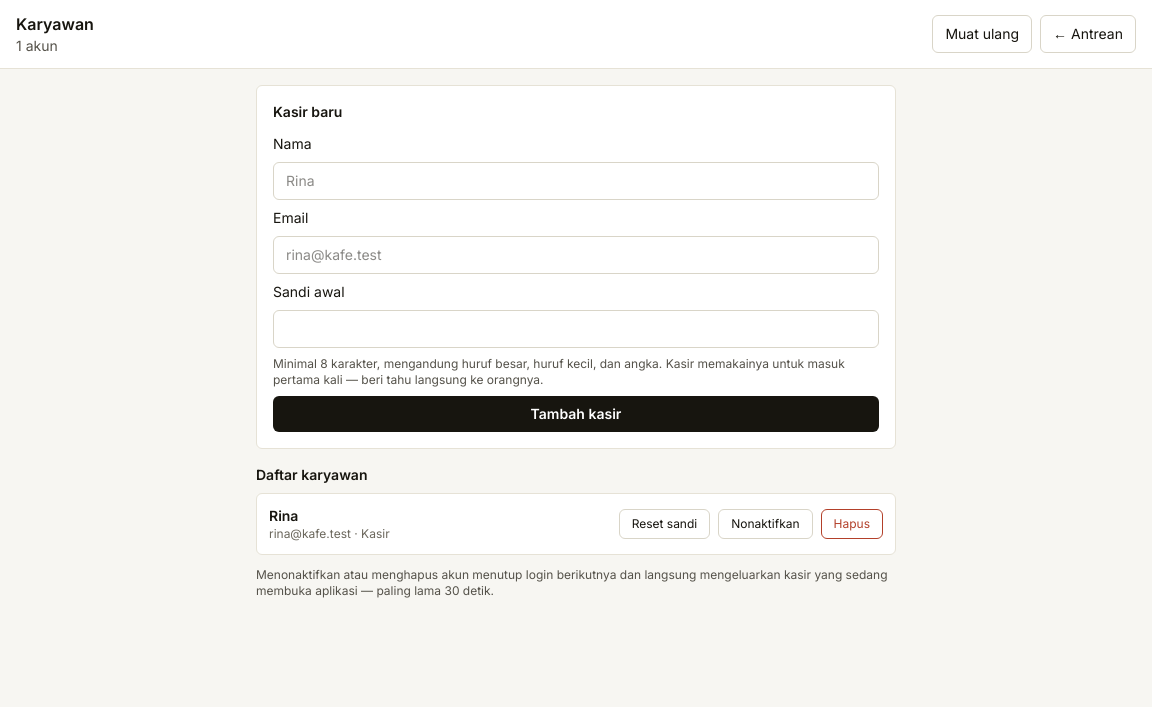
Test: reset sandi kasir › sandi kosong ditolak tanpa menghubungi server
The image size is (1152, 707).
Click the button with aria-label "Reset sandi Rina" at (664, 524), box [619,509,710,539]
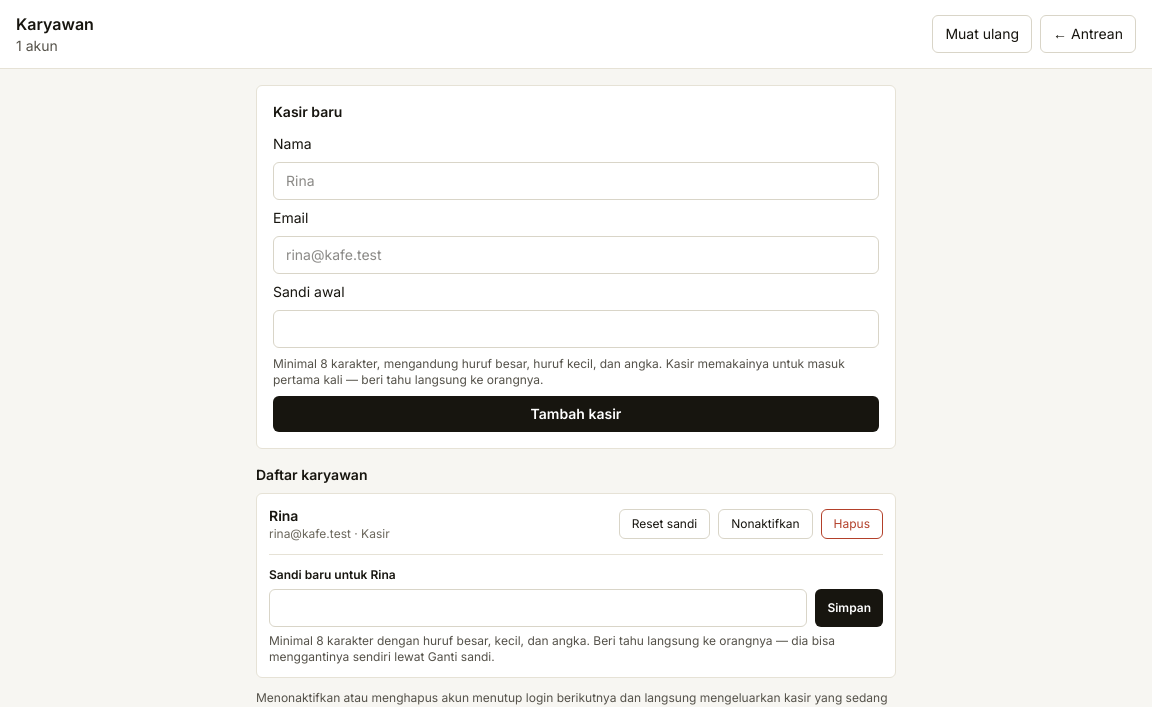
Click the button "Simpan" at (849, 608), box [815,589,883,627]
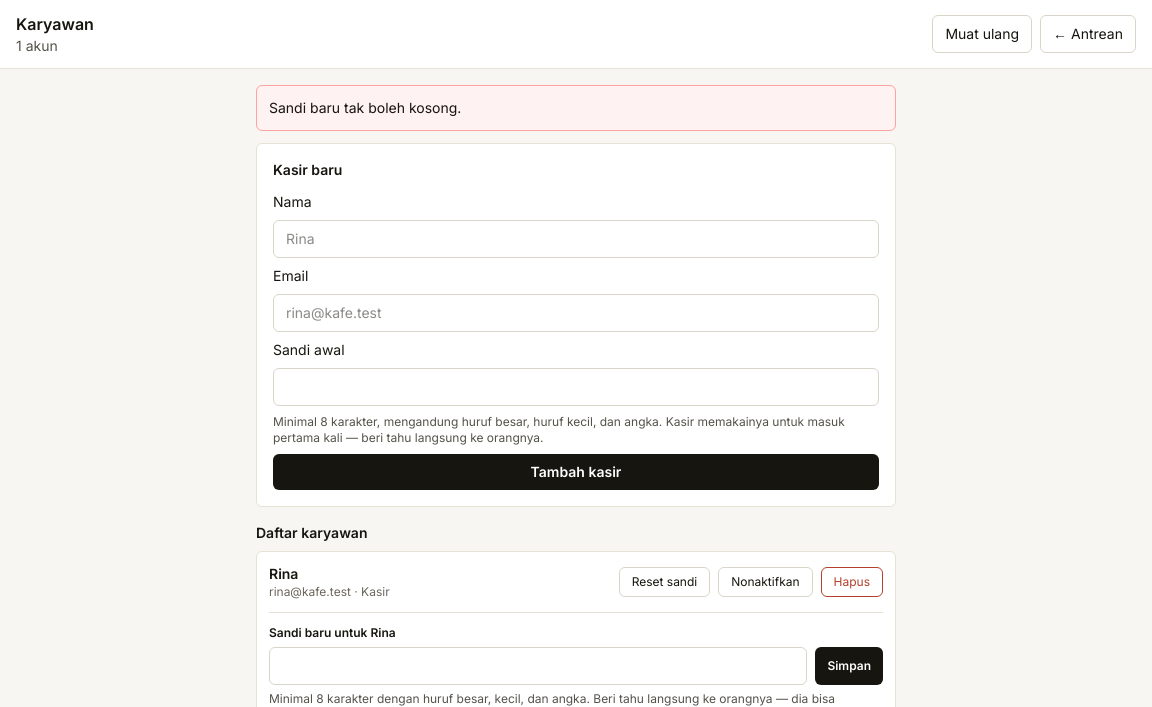
Result: the message "Sandi baru tak boleh kosong." is shown at [256,85,896,131]
